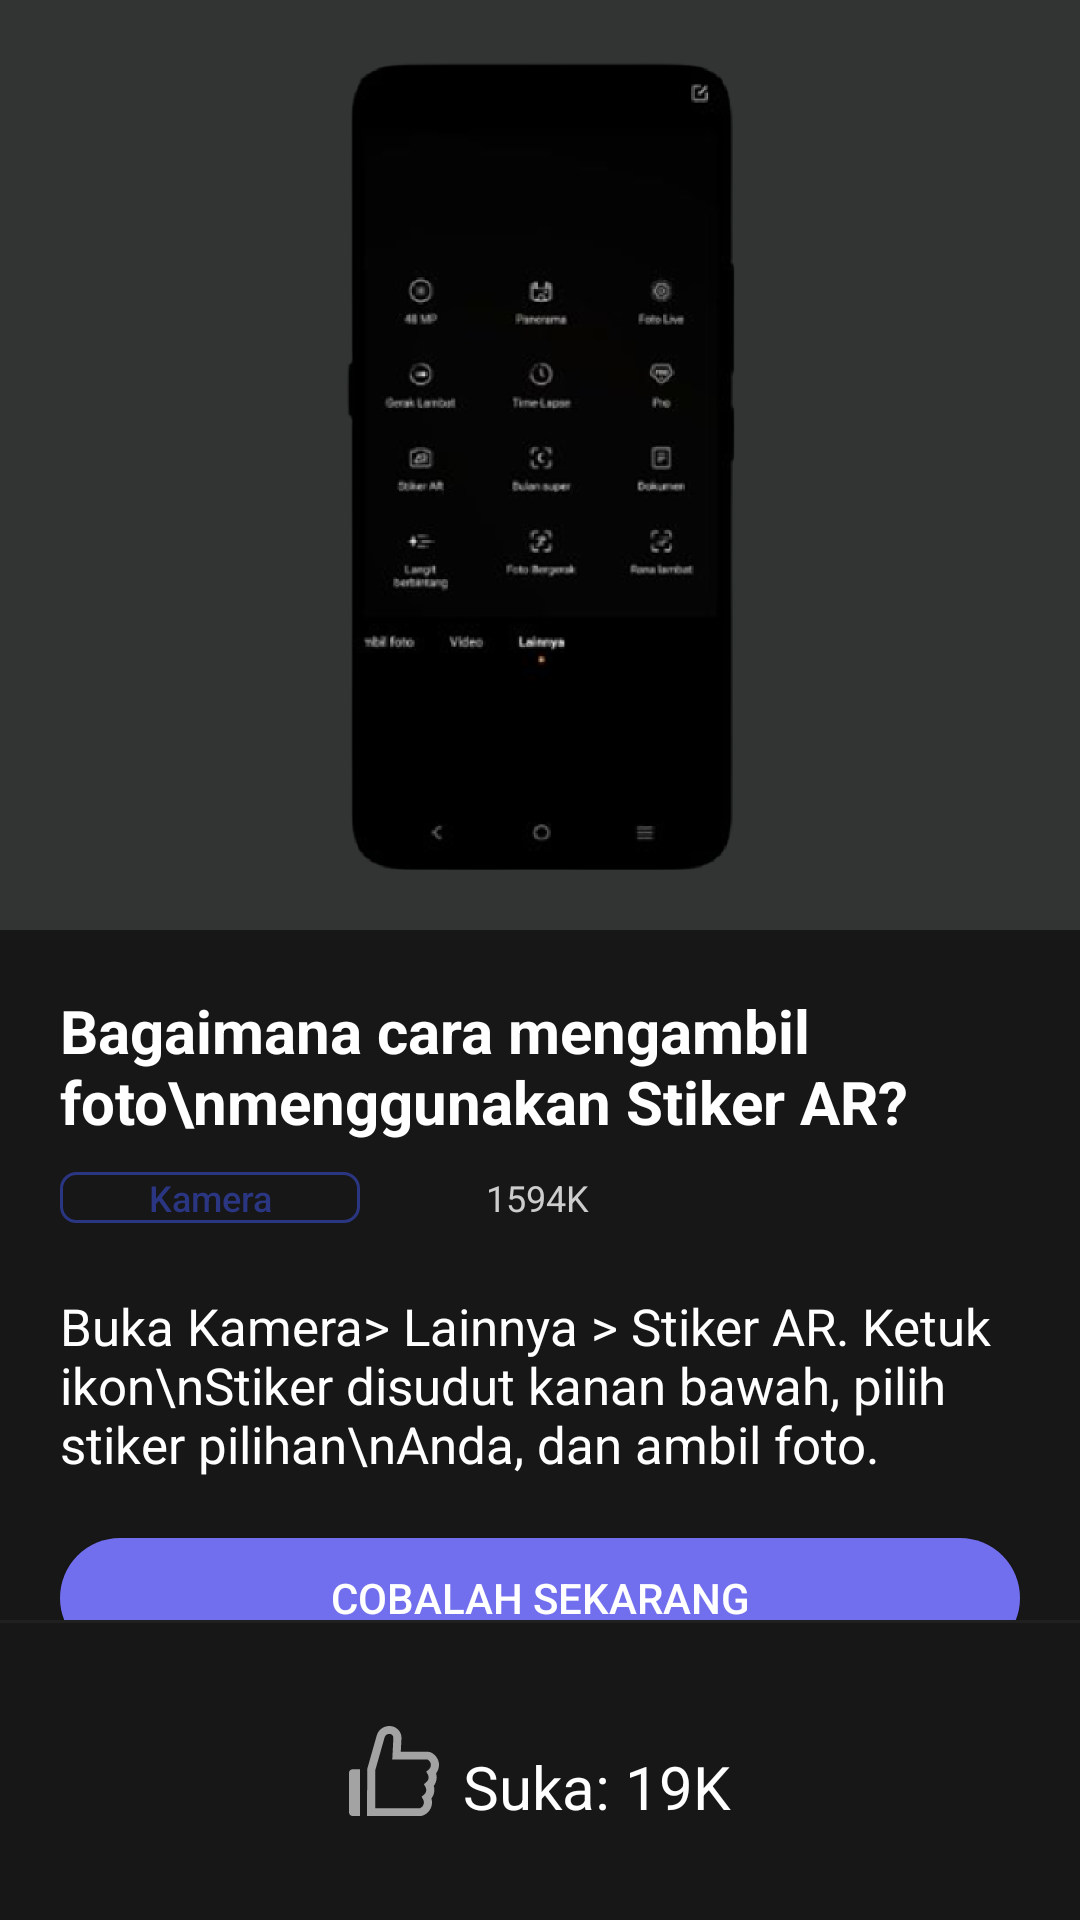

Icons on this 1080 x 1920 Android screen, each with its box as BBox(x1, y1, x2, y2):
like: BBox(349, 1726, 439, 1816)
